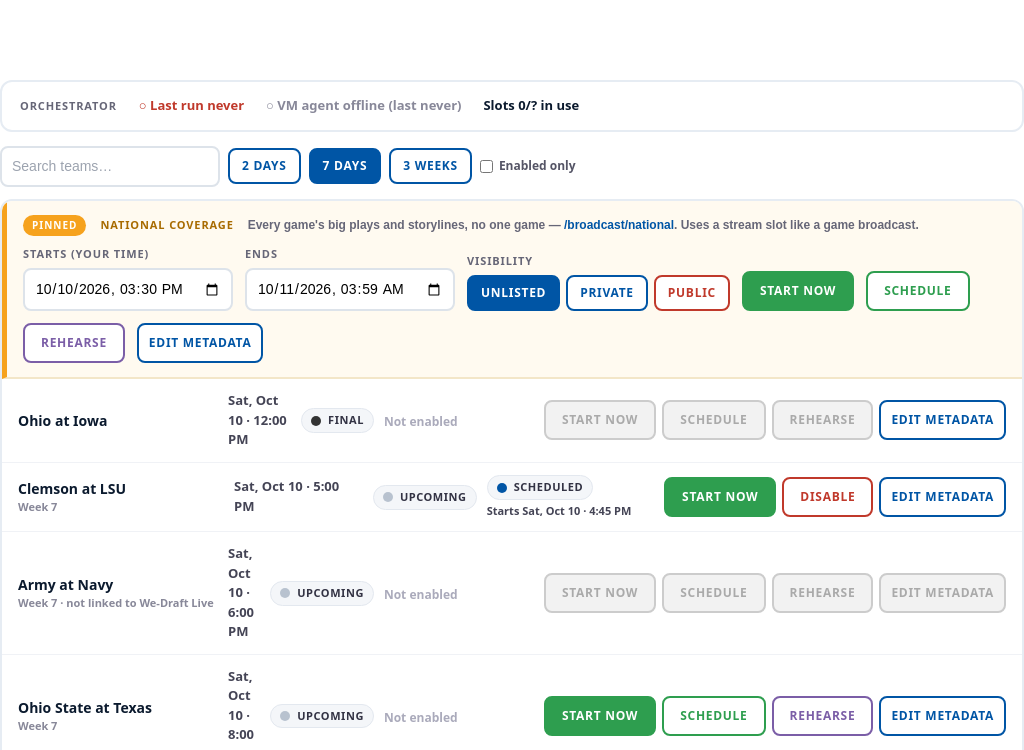
AutoSchedule › Start Now on a scheduled game starts that record; it shows when it starts
expect the text "Starts Sat, Oct 10 · 4:45 PM" is shown: met, box [487,503,654,519]
Click the button "Start Now" next to "Sat, Oct 10 · 4:45 PM".
click(720, 497)  # box [664,477,776,517]
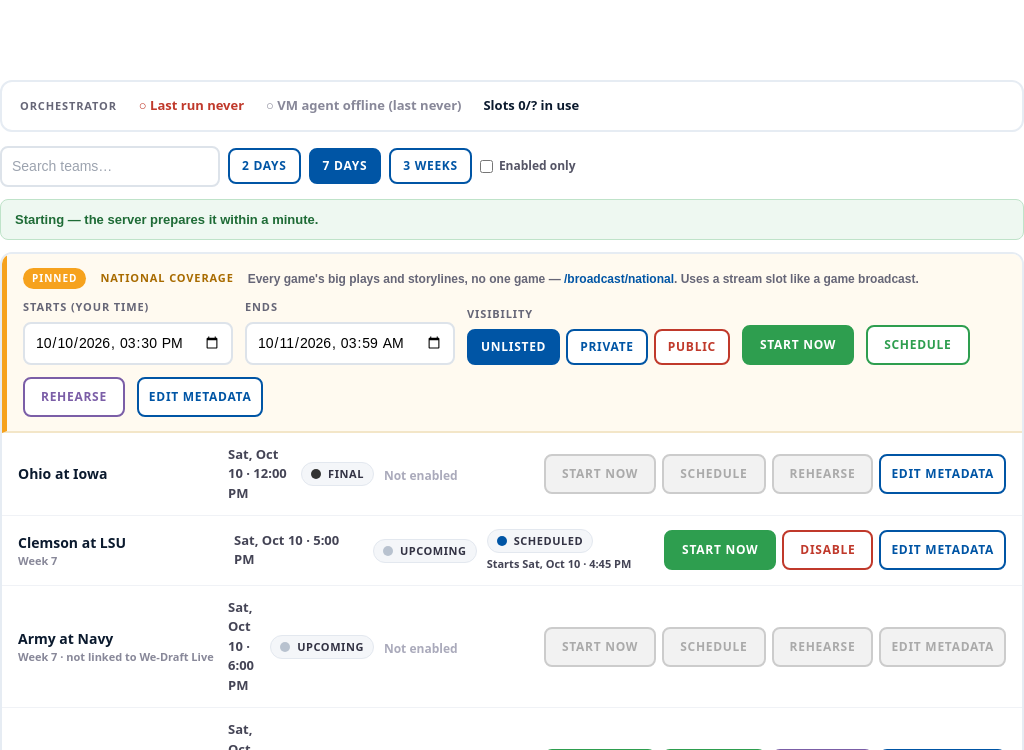
expect the text "Starting — the server prepares it within a minute." is shown: met, box [0,198,1023,240]
